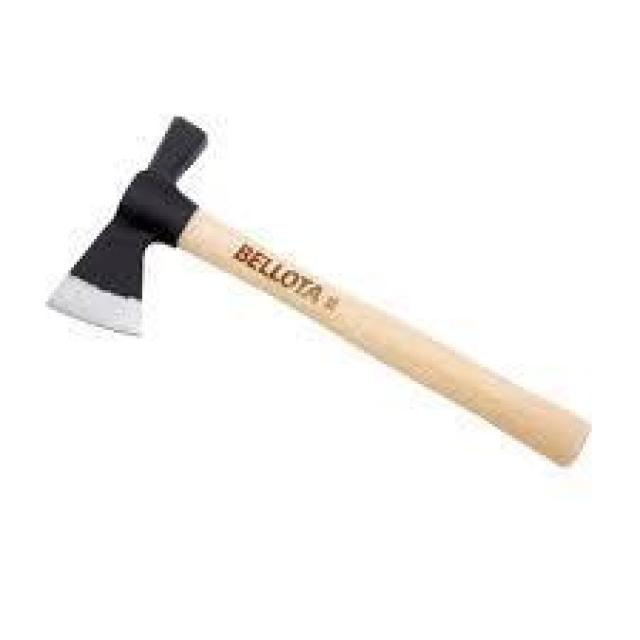Kapak: (39, 85, 610, 498)
